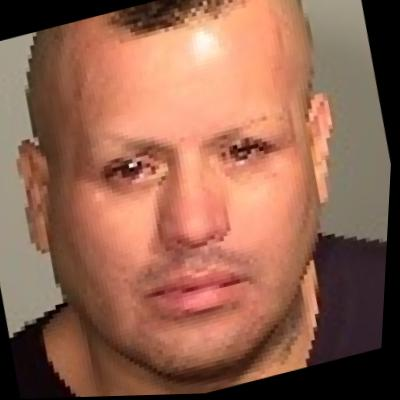angry: (23, 0, 356, 389)
